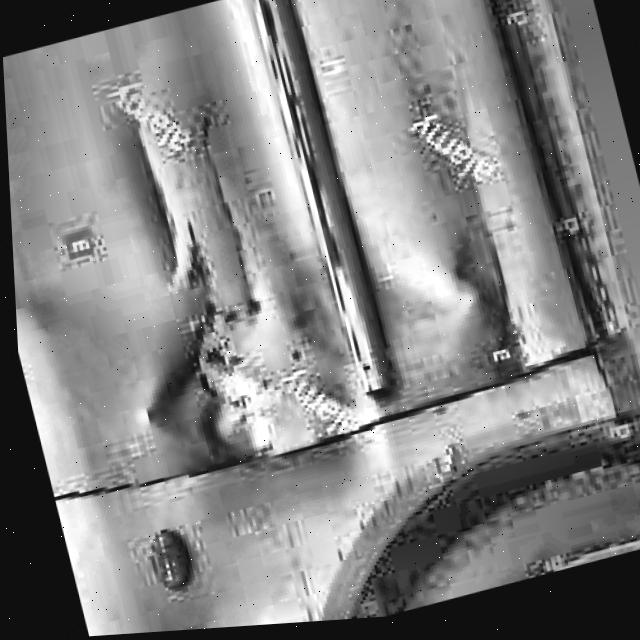bumper_scratch: (95, 59, 300, 434), (447, 225, 537, 372)
door_dent: (62, 0, 549, 487)
